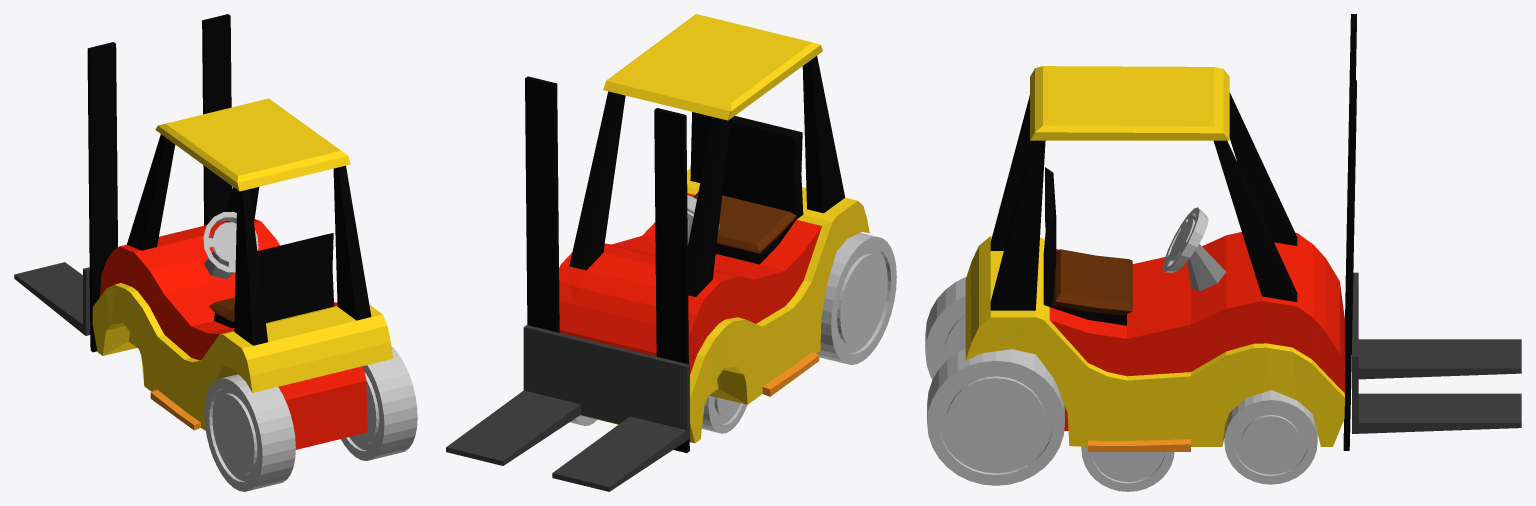
File: Forklift_SmallWheel.fbx
The picture shows the model from 3 angles, left to right: view 1: azimuth 30°, elevation 25°; view 2: azimuth 150°, elevation 25°; view 3: azimuth 270°, elevation 25°; orthographic projection. The views are drawn at different scales.
Parts seen in each view (by area): view 1: ForkBody, Cylinder.001, Cylinder, ForkLifter, Cylinder.004; view 2: ForkBody, ForkLifter, Cylinder.001, Cylinder.003; view 3: ForkBody, Cylinder, ForkLifter, Cylinder.002, Cylinder.003, Cylinder.001, Cylinder.004.
Boxes of the visible parts, x1,y1,x2,y2 form: ForkBody: (87,14,393,449); Cylinder.001: (204,374,295,491); Cylinder: (341,346,417,460); ForkLifter: (14,262,90,335); Cylinder.004: (203,212,258,272); ForkBody: (525,14,869,452); ForkLifter: (446,325,689,491); Cylinder.001: (817,232,896,364); Cylinder.003: (702,395,747,433); ForkBody: (965,14,1356,451); Cylinder: (927,348,1064,485); ForkLifter: (1352,272,1521,433); Cylinder.002: (1224,390,1317,484); Cylinder.003: (1081,446,1174,491); Cylinder.001: (925,277,966,379); Cylinder.004: (1162,207,1208,272).
Bounding box in the file's own units: 299 × 663 × 835.
